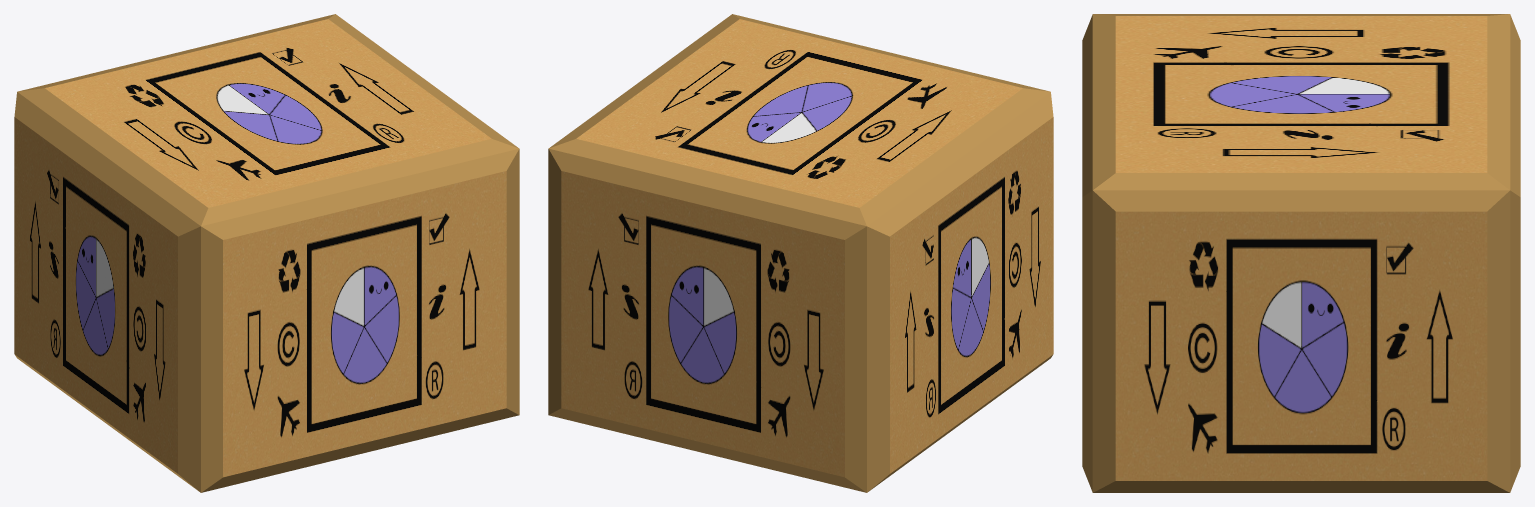
3 renders of one model, left to right at view 1: azimuth 30°, elevation 25°; view 2: azimuth 150°, elevation 25°; view 3: azimuth 270°, elevation 25°, orthographic. The views are drawn at different scales.
Parts seen in each view (by area): view 1: 4/5; view 2: 4/5; view 3: 4/5.
Boxes of the visible parts, left/top/right/bottom form: 4/5: left=14, top=14, right=519, bottom=492; 4/5: left=548, top=14, right=1053, bottom=492; 4/5: left=1082, top=14, right=1520, bottom=492.
Size of the model in its own units: 213 by 168 by 210.
Materials: 2 (1 with a texture image).
